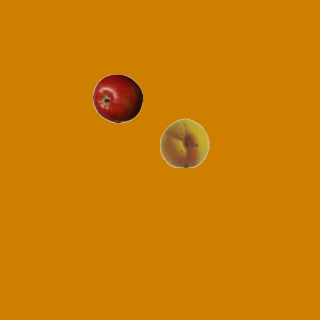Apple Braeburn: (92, 73, 142, 123)
Peach 2: (159, 117, 209, 167)
